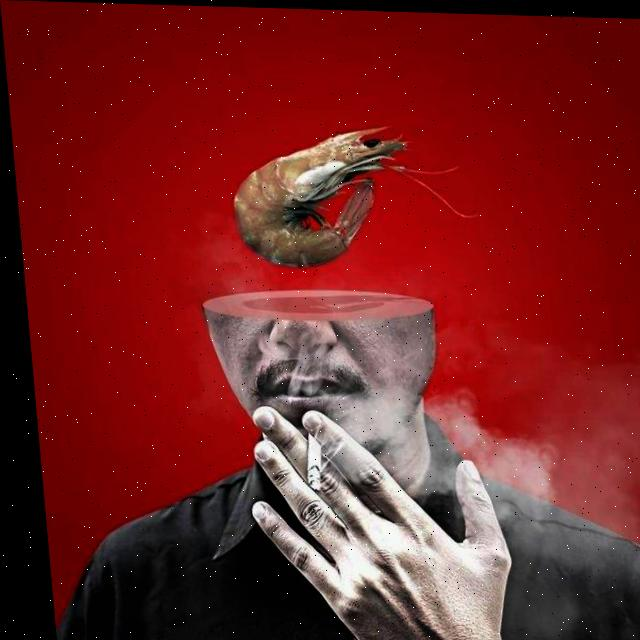cigarette: (295, 434, 317, 491)
